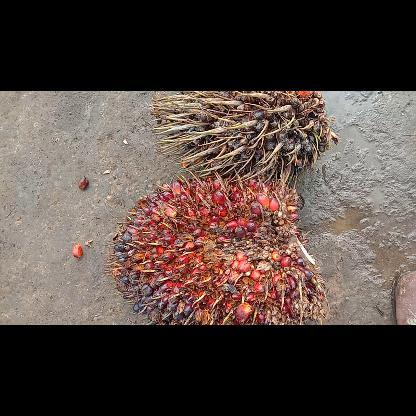TBS abnormal: (152, 90, 340, 178)
TBS masak: (104, 180, 328, 324)
